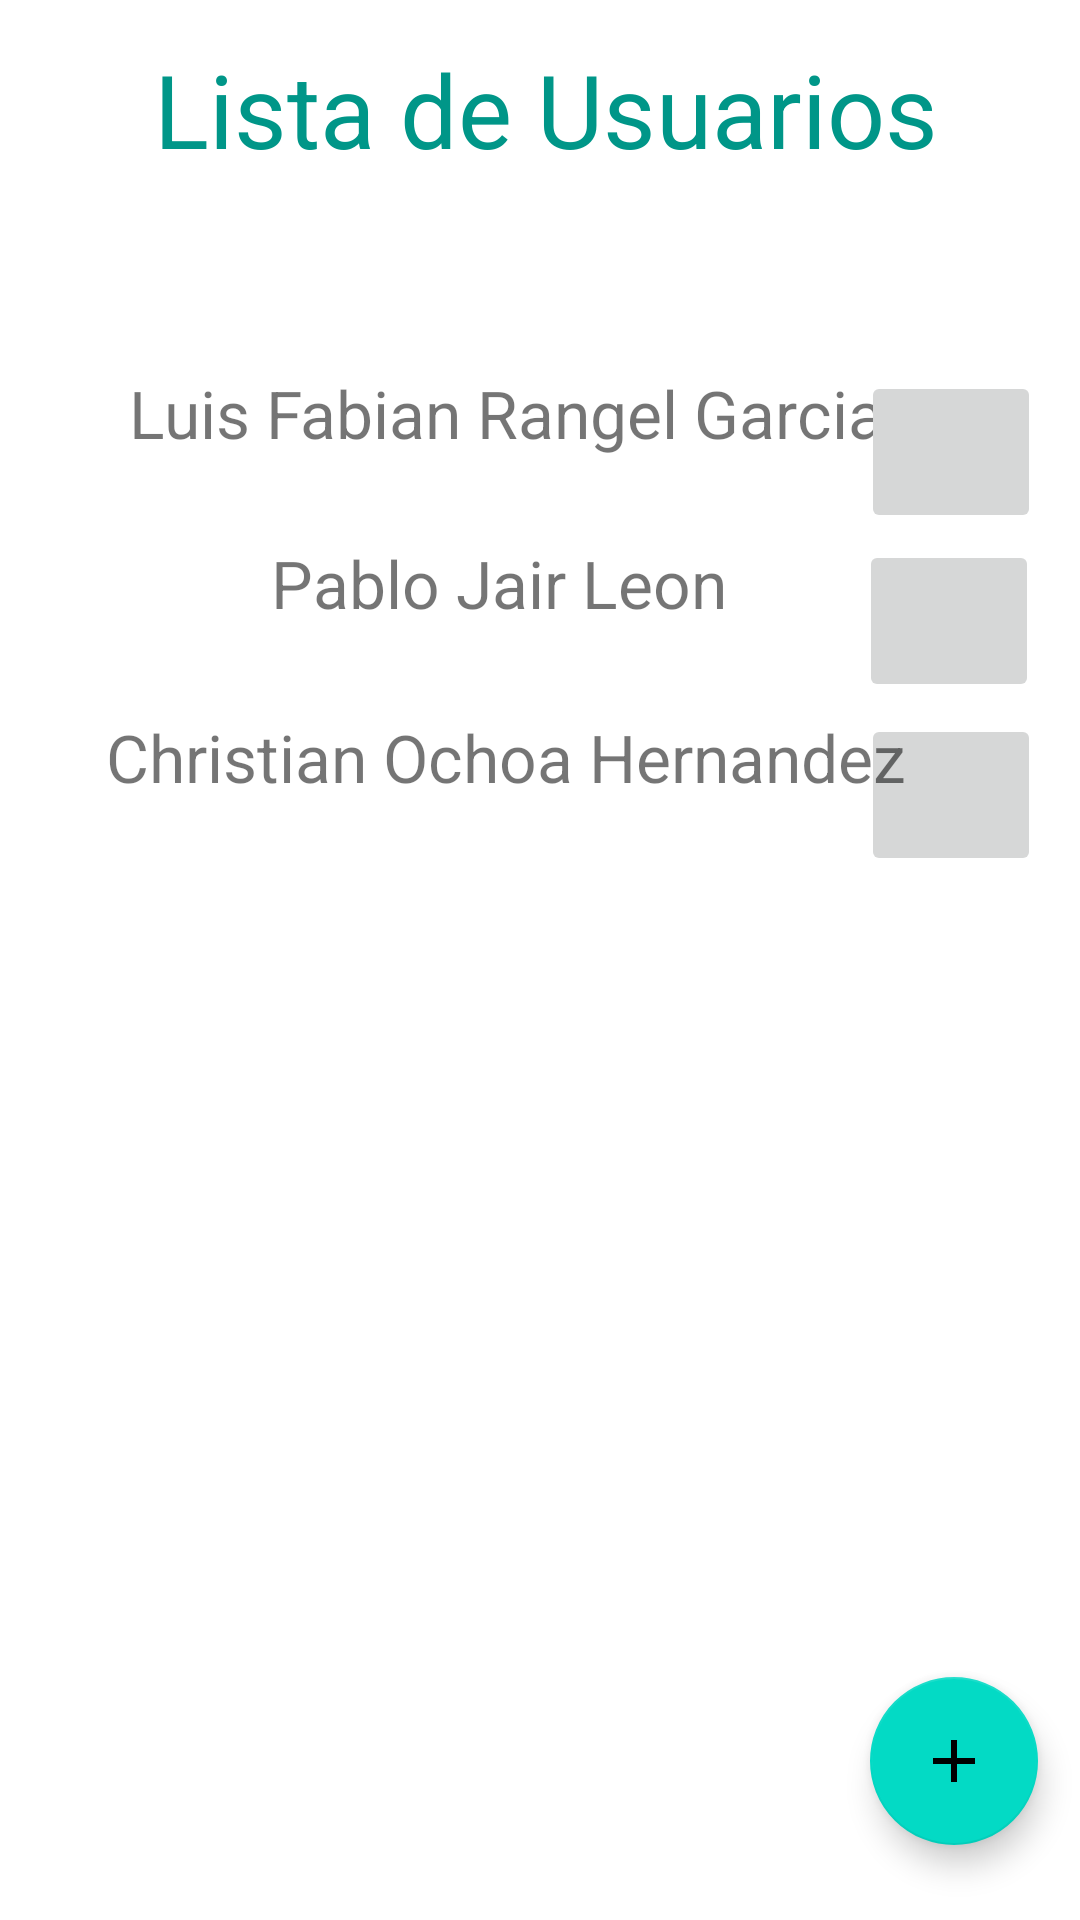

Icon click points for this 1080w x 1920h phone screenshot, format (x,y):
add: (954,1761)
